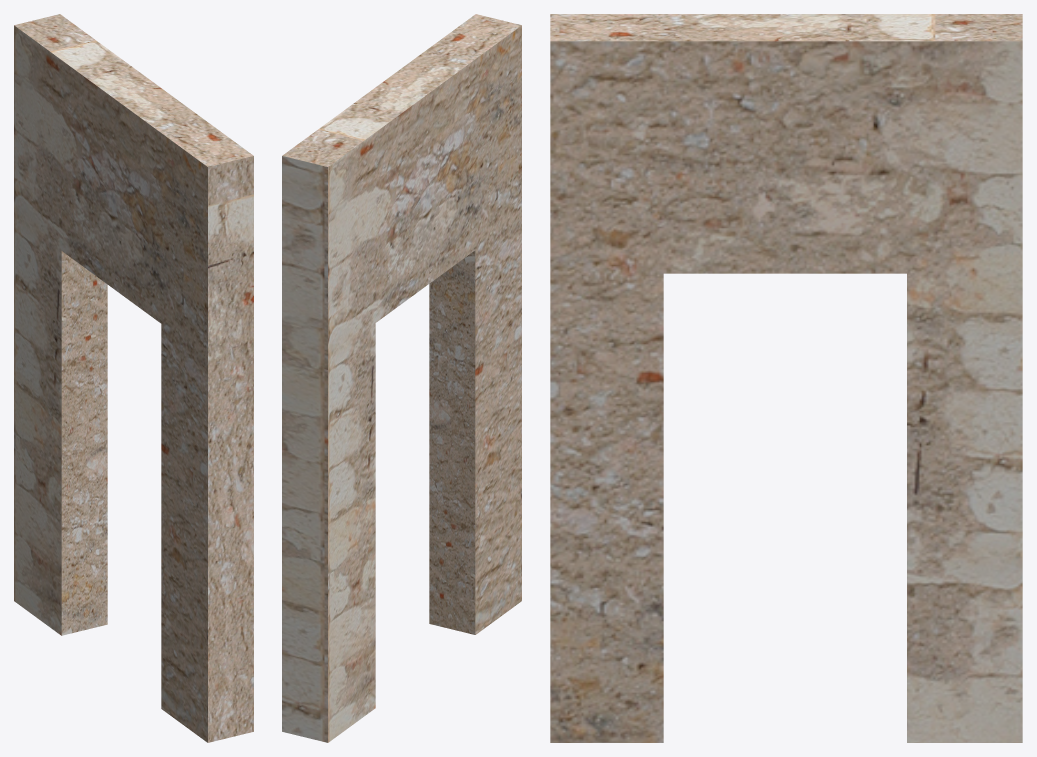
Rendered from OldHouseStoneWallSmallDoor.obj.
3 views of the same model, side by side, from view 1: azimuth 30°, elevation 25°; view 2: azimuth 150°, elevation 25°; view 3: azimuth 270°, elevation 25° (orthographic). The views are drawn at different scales.
Visible parts, largest first — view 1: Box02; view 2: Box02; view 3: Box02.
Boxes of the visible parts, x1=… form: Box02: x1=14, y1=14, x2=253, y2=742; Box02: x1=282, y1=14, x2=521, y2=742; Box02: x1=550, y1=14, x2=1022, y2=742.
Size of the model in its own units: 0.2933 by 3.5 by 2.14.
1 material, 1 textured.
